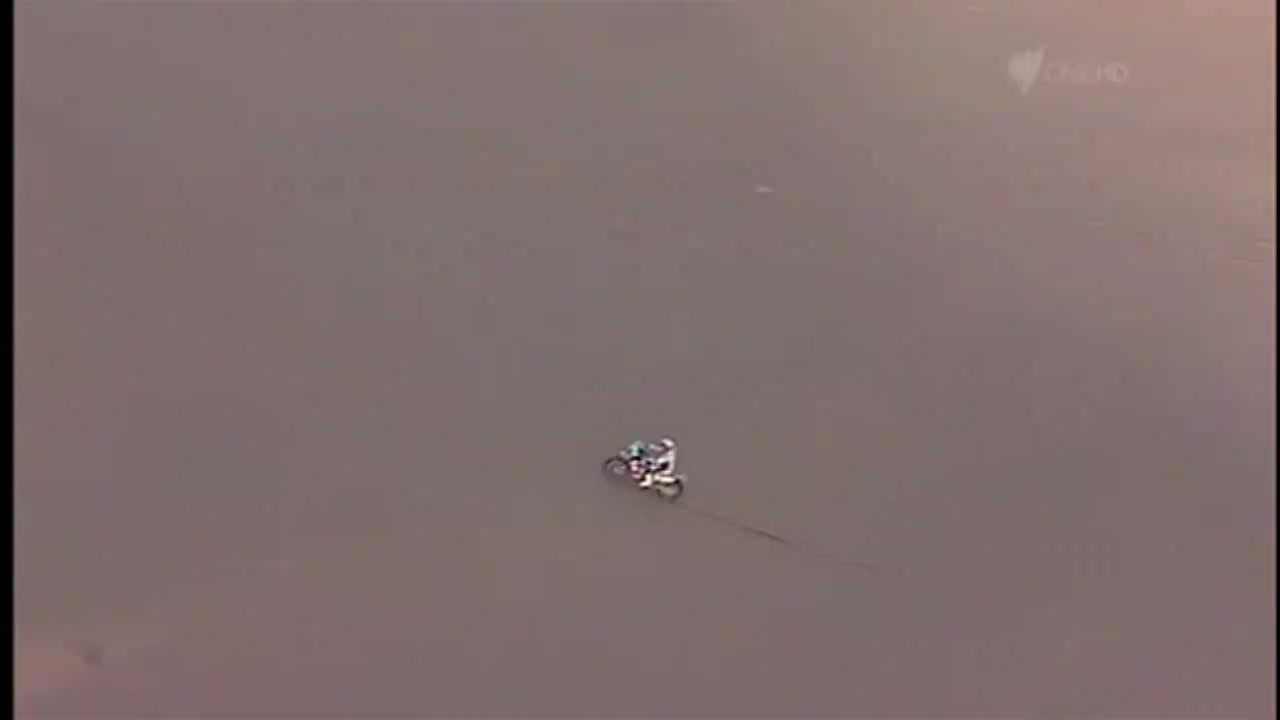motorbike: (603, 445, 689, 505)
